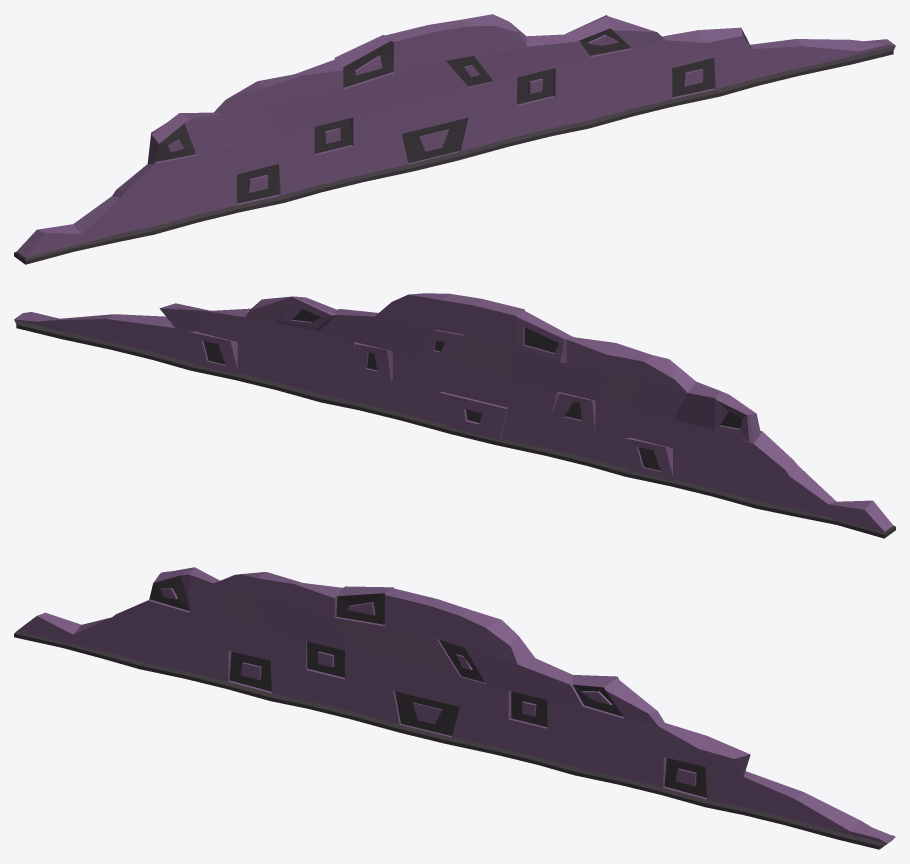
File: ENV_Wall-edge_Placeholder2.fbx
The picture shows the model from 3 angles, top to bottom: view 1: azimuth 30°, elevation 25°; view 2: azimuth 150°, elevation 25°; view 3: azimuth 330°, elevation 25°; orthographic projection.
Visible parts, largest first — view 1: Wall_edge.002, Wall_middle.002; view 2: Wall_edge.002, Wall_middle.002; view 3: Wall_edge.002, Wall_middle.002.
Part boxes in pixels (<box>): Wall_edge.002: <box>14,25,468,264</box>; Wall_middle.002: <box>429,14,895,160</box>; Wall_edge.002: <box>440,299,895,538</box>; Wall_middle.002: <box>14,293,481,433</box>; Wall_edge.002: <box>14,567,460,743</box>; Wall_middle.002: <box>428,599,895,849</box>.
Bounding box in the file's own units: 3659 × 108 × 528.
